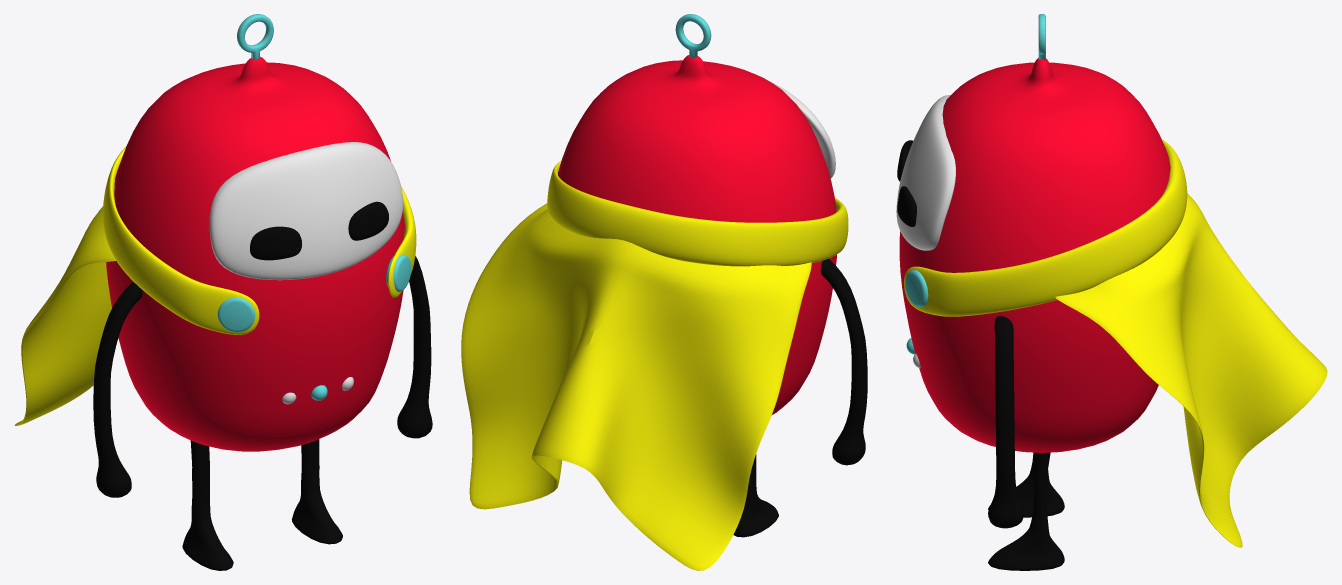
The model's file is suni.glb.
The picture shows the model from 3 angles, left to right: view 1: azimuth 30°, elevation 25°; view 2: azimuth 150°, elevation 25°; view 3: azimuth 270°, elevation 25°; orthographic projection. The views are drawn at different scales.
Parts seen in each view (by area): view 1: Box001.001, Plane.002, cape.002, Cube.002, Box004.002, Box004.003, Box005.004, Box005.003, Plane.003, Circle.006, Circle.005; view 2: cape.002, Box001.001, Cube.002, Box004.002, Box005.004, Plane.002, Circle.005; view 3: Box001.001, cape.002, Cube.002, Plane.002, Box004.003, Box005.003, Box005.004, Plane.003, Circle.006.
Boxes of the visible parts, bbox=[...] form: Box001.001: bbox=[106, 56, 404, 451]; Plane.002: bbox=[209, 142, 403, 280]; cape.002: bbox=[14, 206, 115, 425]; Cube.002: bbox=[103, 146, 416, 334]; Box004.002: bbox=[93, 281, 142, 497]; Box004.003: bbox=[397, 256, 432, 438]; Box005.004: bbox=[182, 440, 233, 570]; Box005.003: bbox=[292, 439, 342, 544]; Plane.003: bbox=[250, 201, 388, 260]; Circle.006: bbox=[217, 254, 411, 332]; Circle.005: bbox=[237, 14, 273, 59]; cape.002: bbox=[461, 203, 811, 570]; Box001.001: bbox=[558, 55, 836, 414]; Cube.002: bbox=[547, 161, 848, 266]; Box004.002: bbox=[820, 258, 867, 465]; Box005.004: bbox=[733, 454, 778, 537]; Plane.002: bbox=[768, 80, 835, 178]; Circle.005: bbox=[675, 14, 711, 58]; Box001.001: bbox=[899, 58, 1170, 452]; cape.002: bbox=[1055, 193, 1327, 547]; Cube.002: bbox=[904, 139, 1187, 316]; Plane.002: bbox=[896, 95, 955, 250]; Box004.003: bbox=[988, 316, 1024, 528]; Box005.003: bbox=[988, 452, 1064, 570]; Box005.004: bbox=[988, 452, 1064, 517]; Plane.003: bbox=[897, 140, 916, 226]; Circle.006: bbox=[905, 270, 928, 307].
Bounding box in the file's own units: 15.12 × 22.19 × 16.57.
